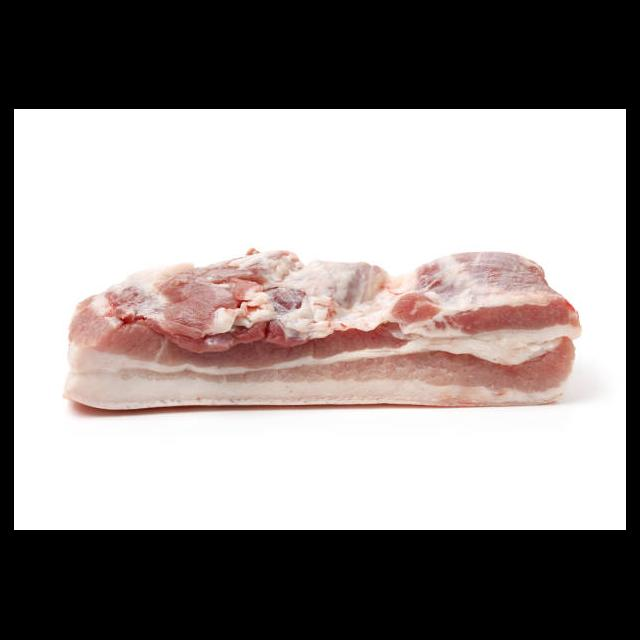pork: (58, 241, 584, 417)
